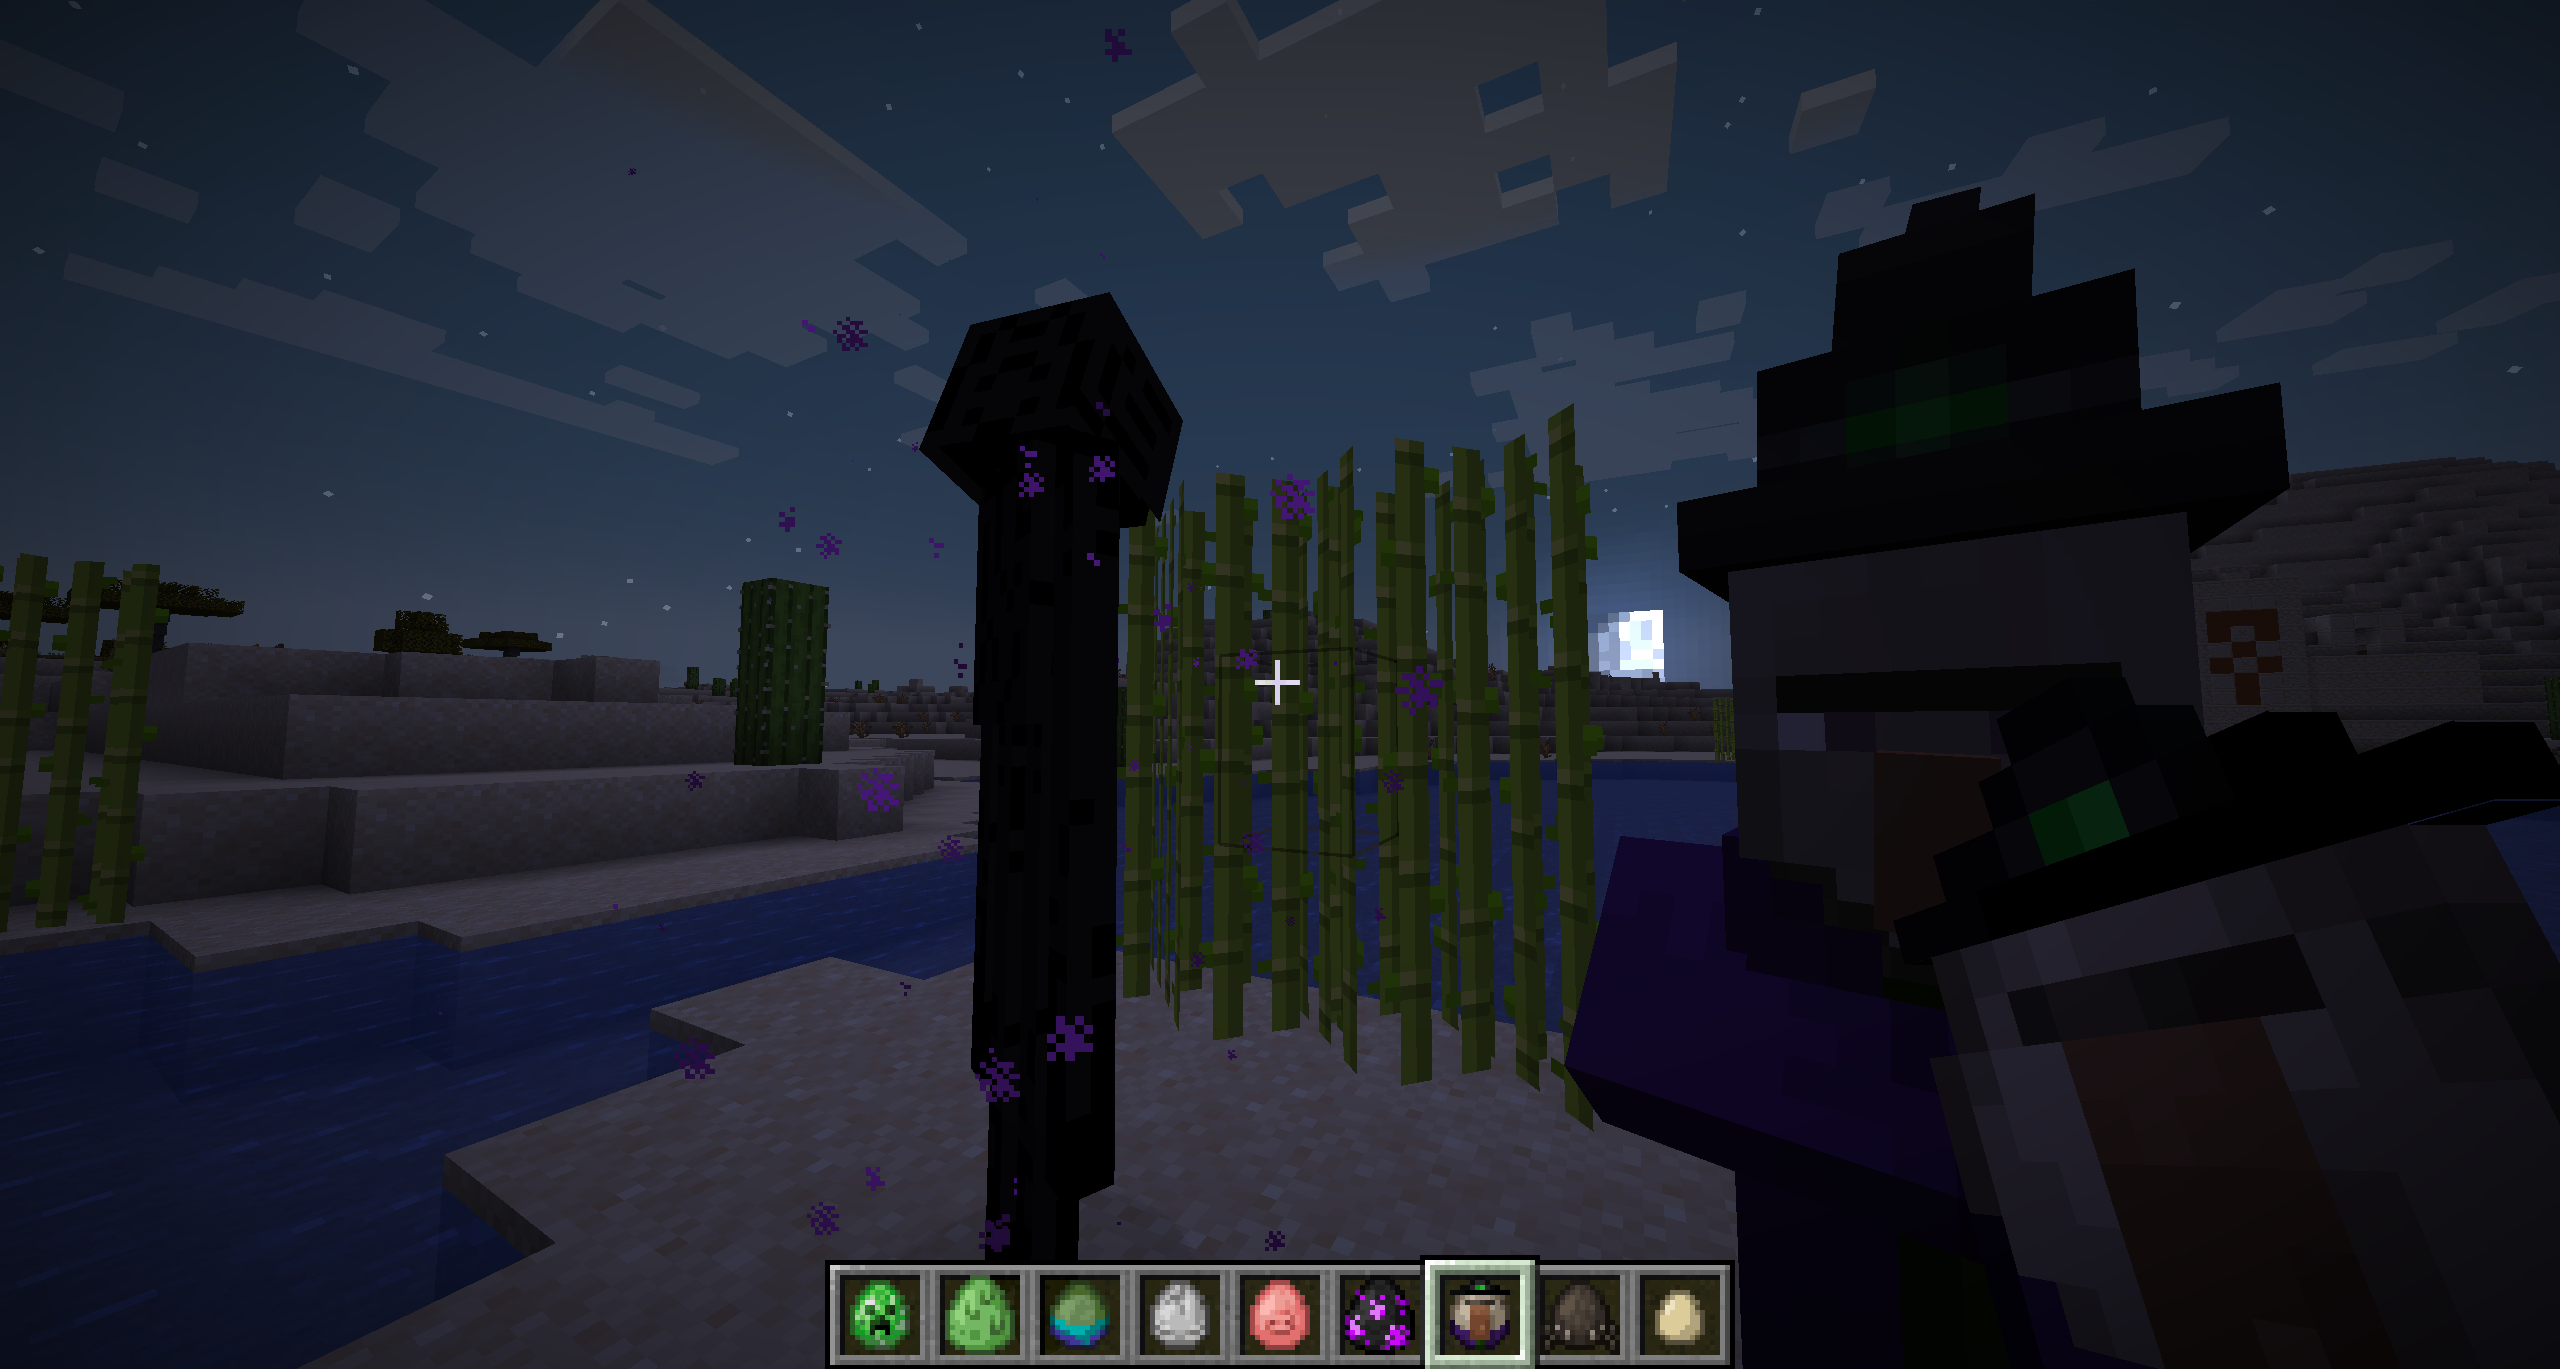endermens: (909, 300, 1177, 1261)
sorcieres: (1614, 212, 2276, 1369)
